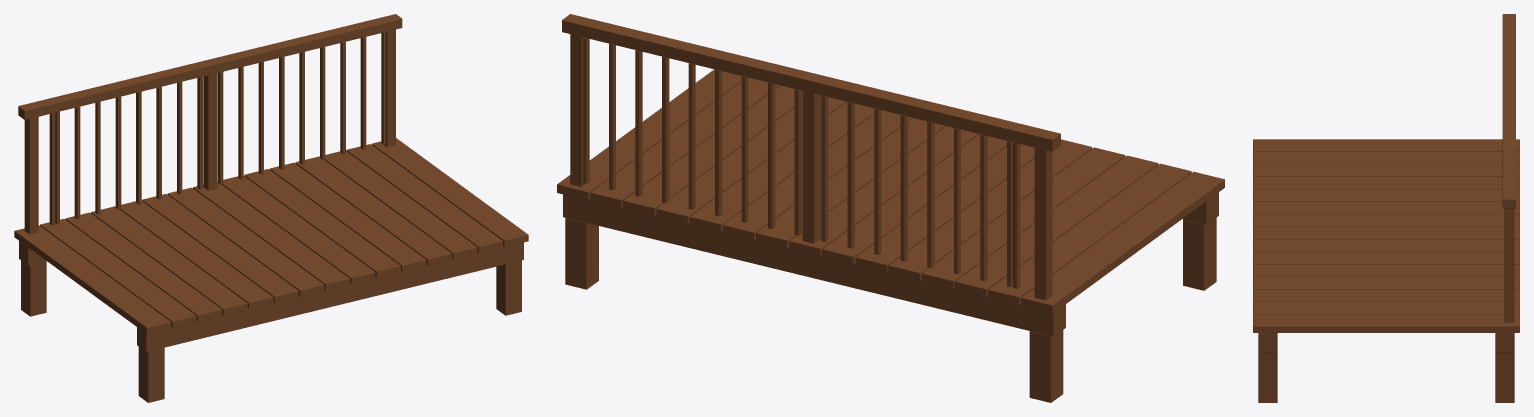
Rendered from source-edit.glb.
3 renders of one model, left to right at view 1: azimuth 30°, elevation 25°; view 2: azimuth 150°, elevation 25°; view 3: azimuth 270°, elevation 25°, orthographic. The views are drawn at different scales.
Visible parts, largest first — view 1: Beam.001, Top_Rail, Deck_Plank_0, Deck_Plank_2, Deck_Plank_6, Deck_Plank_9, Deck_Plank_10, Deck_Plank_13, Deck_Plank_3, Deck_Plank_11, Deck_Plank_5, Deck_Plank_4 (+29 smaller); view 2: Beam, Top_Rail, Deck_Plank_0, Deck_Plank_1, Deck_Plank_2, Deck_Plank_3, Deck_Plank_6, Deck_Plank_13, Deck_Plank_4, Deck_Plank_12, Deck_Plank_14, Deck_Plank_5 (+30 smaller); view 3: Deck_Plank_14, Deck_Plank_1, Deck_Plank_11, Deck_Plank_13, Deck_Plank_6, Deck_Plank_8, Deck_Plank_9, Deck_Plank_10, Deck_Plank_12, Deck_Plank_7, Deck_Plank_5, Deck_Plank_0 (+9 smaller).
Boxes of the visible parts, x1=… form: Beam.001: x1=137, y1=242, x2=523, y2=351; Top_Rail: x1=18, y1=14, x2=402, y2=119; Deck_Plank_0: x1=14, y1=225, x2=170, y2=334; Deck_Plank_2: x1=65, y1=212, x2=222, y2=321; Deck_Plank_6: x1=167, y1=187, x2=324, y2=296; Deck_Plank_9: x1=244, y1=169, x2=400, y2=277; Deck_Plank_10: x1=269, y1=162, x2=426, y2=271; Deck_Plank_13: x1=346, y1=144, x2=502, y2=253; Deck_Plank_3: x1=91, y1=206, x2=247, y2=315; Deck_Plank_11: x1=295, y1=156, x2=451, y2=265; Deck_Plank_5: x1=142, y1=194, x2=298, y2=302; Deck_Plank_4: x1=119, y1=201, x2=273, y2=309; Beam: x1=563, y1=194, x2=1065, y2=336; Top_Rail: x1=562, y1=14, x2=1060, y2=151; Deck_Plank_0: x1=1021, y1=171, x2=1224, y2=313; Deck_Plank_1: x1=988, y1=163, x2=1191, y2=305; Deck_Plank_2: x1=955, y1=155, x2=1158, y2=297; Deck_Plank_3: x1=922, y1=147, x2=1125, y2=289; Deck_Plank_6: x1=822, y1=134, x2=1006, y2=265; Deck_Plank_13: x1=590, y1=78, x2=780, y2=208; Deck_Plank_4: x1=888, y1=139, x2=1092, y2=281; Deck_Plank_12: x1=623, y1=85, x2=802, y2=216; Deck_Plank_14: x1=557, y1=69, x2=741, y2=200; Deck_Plank_5: x1=855, y1=144, x2=1034, y2=273; Deck_Plank_14: x1=1253, y1=314, x2=1519, y2=332; Deck_Plank_1: x1=1253, y1=151, x2=1519, y2=164; Deck_Plank_11: x1=1253, y1=277, x2=1519, y2=289; Deck_Plank_13: x1=1253, y1=302, x2=1519, y2=314; Deck_Plank_6: x1=1253, y1=214, x2=1519, y2=226; Deck_Plank_8: x1=1253, y1=239, x2=1519, y2=251; Deck_Plank_9: x1=1253, y1=252, x2=1519, y2=264; Deck_Plank_10: x1=1253, y1=264, x2=1519, y2=276; Deck_Plank_12: x1=1253, y1=289, x2=1519, y2=301; Deck_Plank_7: x1=1253, y1=227, x2=1519, y2=239; Deck_Plank_5: x1=1253, y1=202, x2=1519, y2=214; Deck_Plank_0: x1=1253, y1=139, x2=1519, y2=151.
Bounding box in the file's own units: 2.99 × 1.53 × 1.8.
